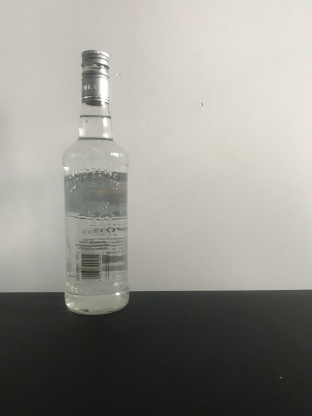nakretka: (80, 48, 110, 106)
